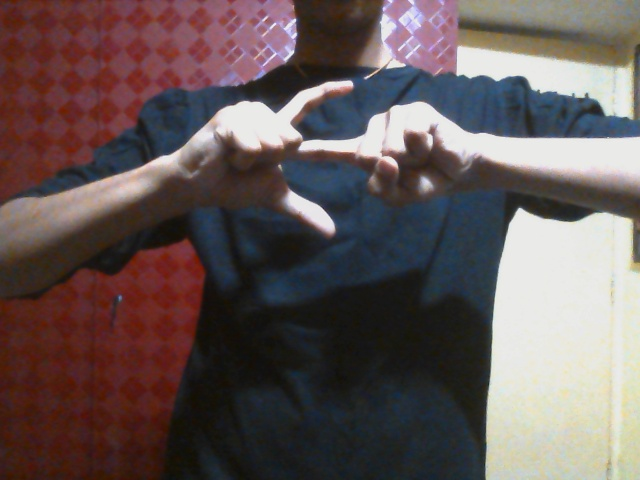E: (193, 77, 494, 248)
